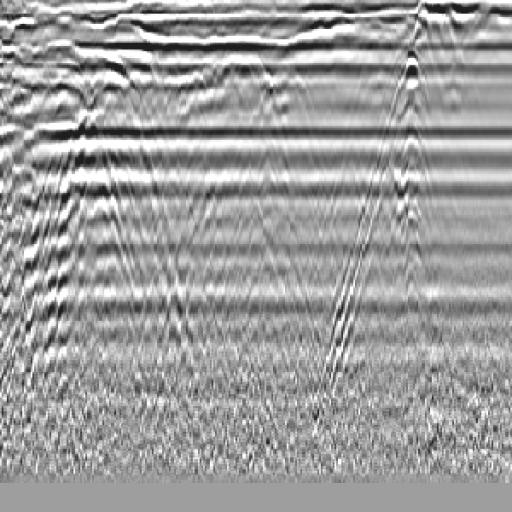metalic: (322, 35, 460, 412)
